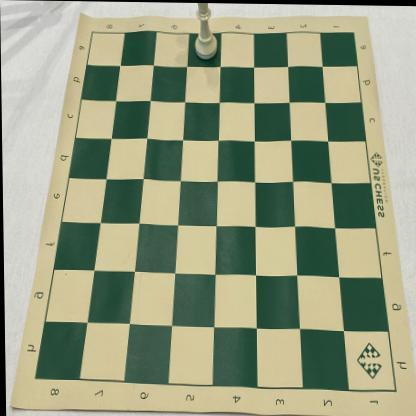white-king: (194, 2, 218, 61)
